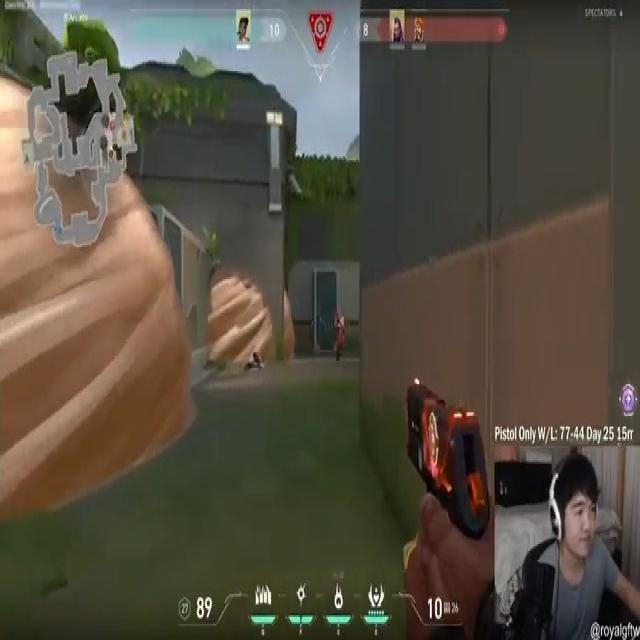enemy: (334, 310, 346, 366)
